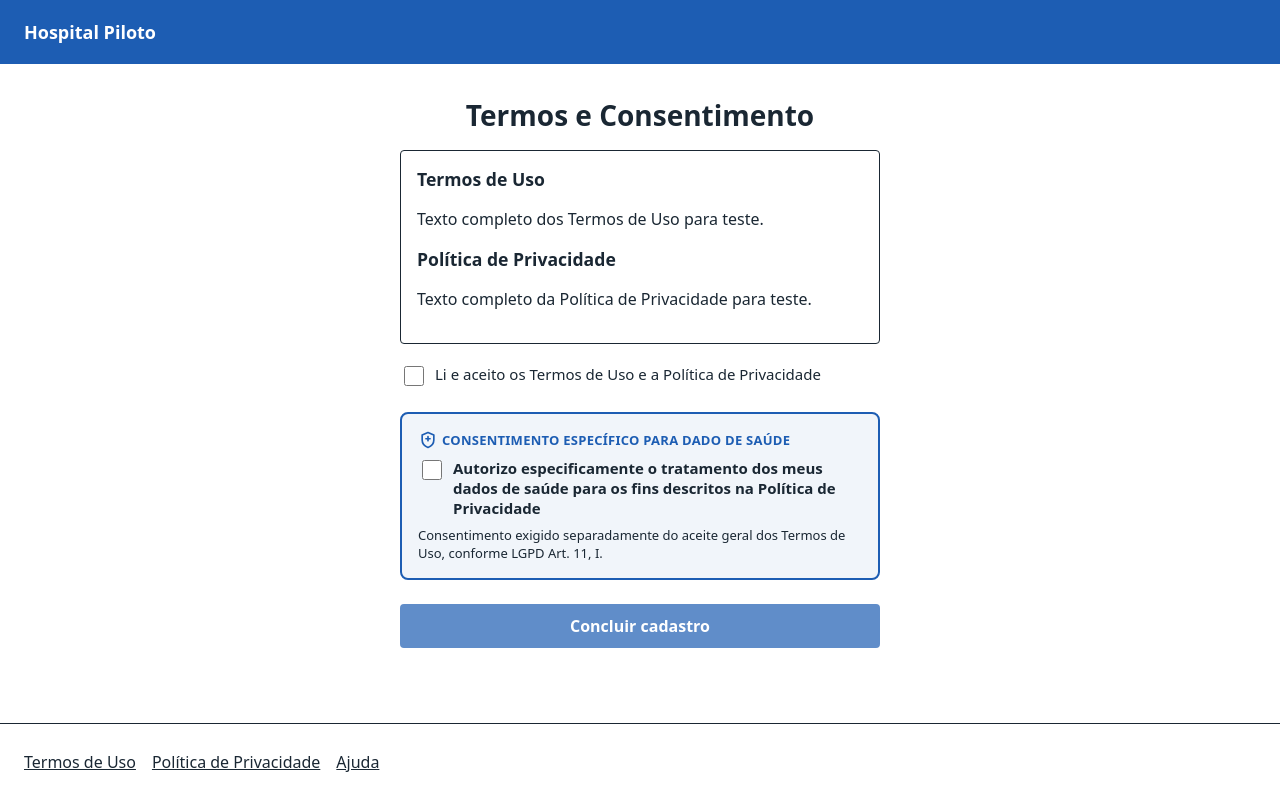
Test case: CadastroTermosConsentimentoPage (TL-05 — Termos e Consentimento LGPD, RF-12/RN-02) › CTA "Concluir cadastro" permanece desabilitado até os dois aceites (nunca apenas um)
The image size is (1280, 800).
Expected: the element named "Texto completo dos Termos de Uso e Política de Privacidade" is shown, left=400, top=150, right=880, bottom=344
Expected: the button "Concluir cadastro" is disabled, left=400, top=604, right=880, bottom=648
Click the checkbox labelled "Li e aceito os Termos de Uso e a Política de Privacidade". click: (414,376)
box: left=404, top=366, right=424, bottom=386
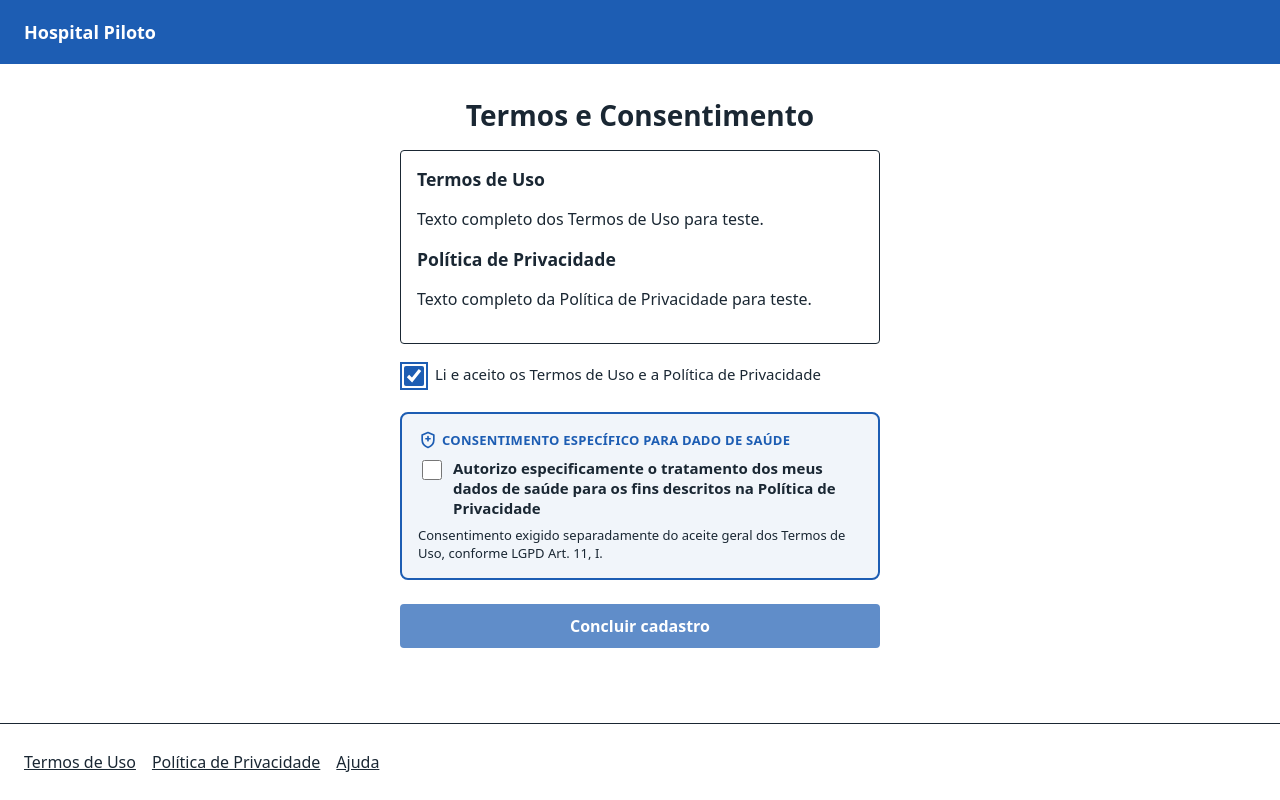
Expected: the button "Concluir cadastro" is disabled, left=400, top=604, right=880, bottom=648
Click the checkbox named "Consentimento específico para dado de saúde: Autorizo especificamente". click: (432,470)
box: left=422, top=460, right=442, bottom=480
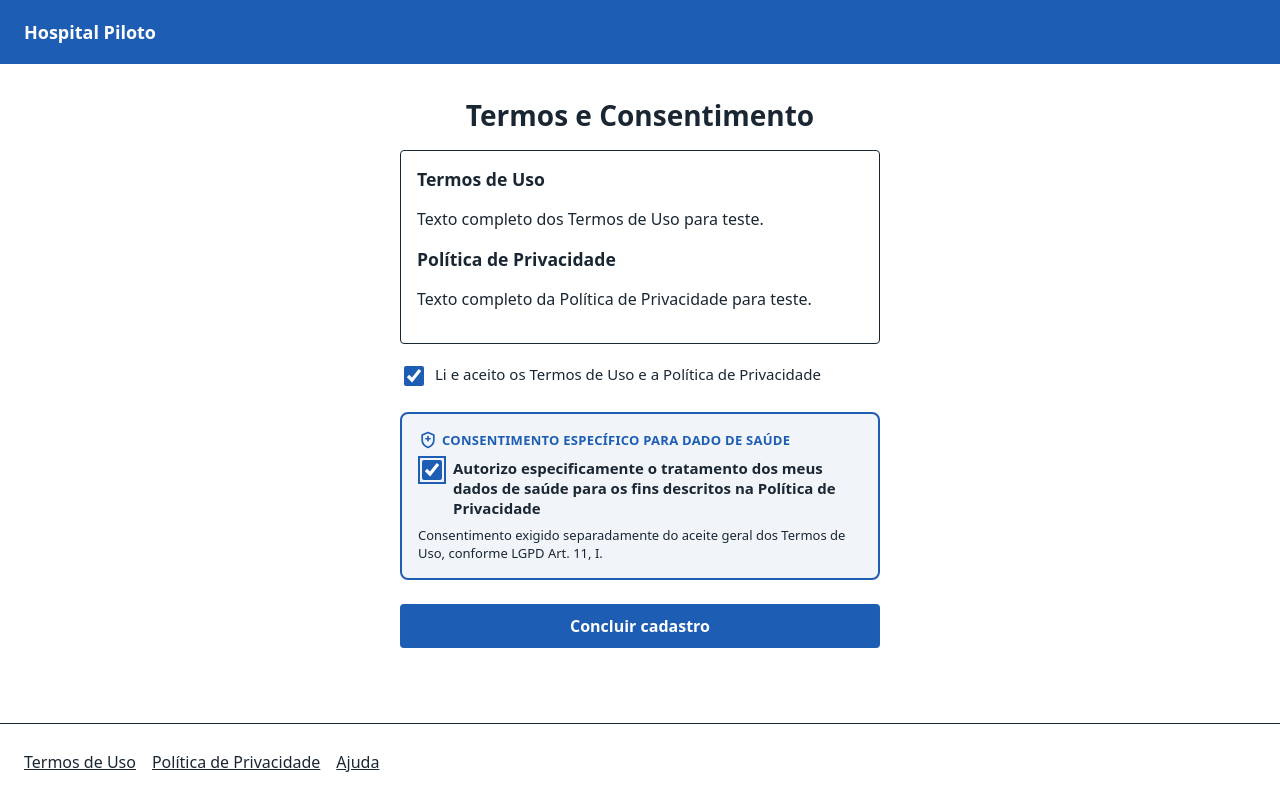
Expected: the button "Concluir cadastro" is enabled, left=400, top=604, right=880, bottom=648
Click the checkbox named "Consentimento específico para dado de saúde: Autorizo especificamente". click: (432,470)
box: left=422, top=460, right=442, bottom=480
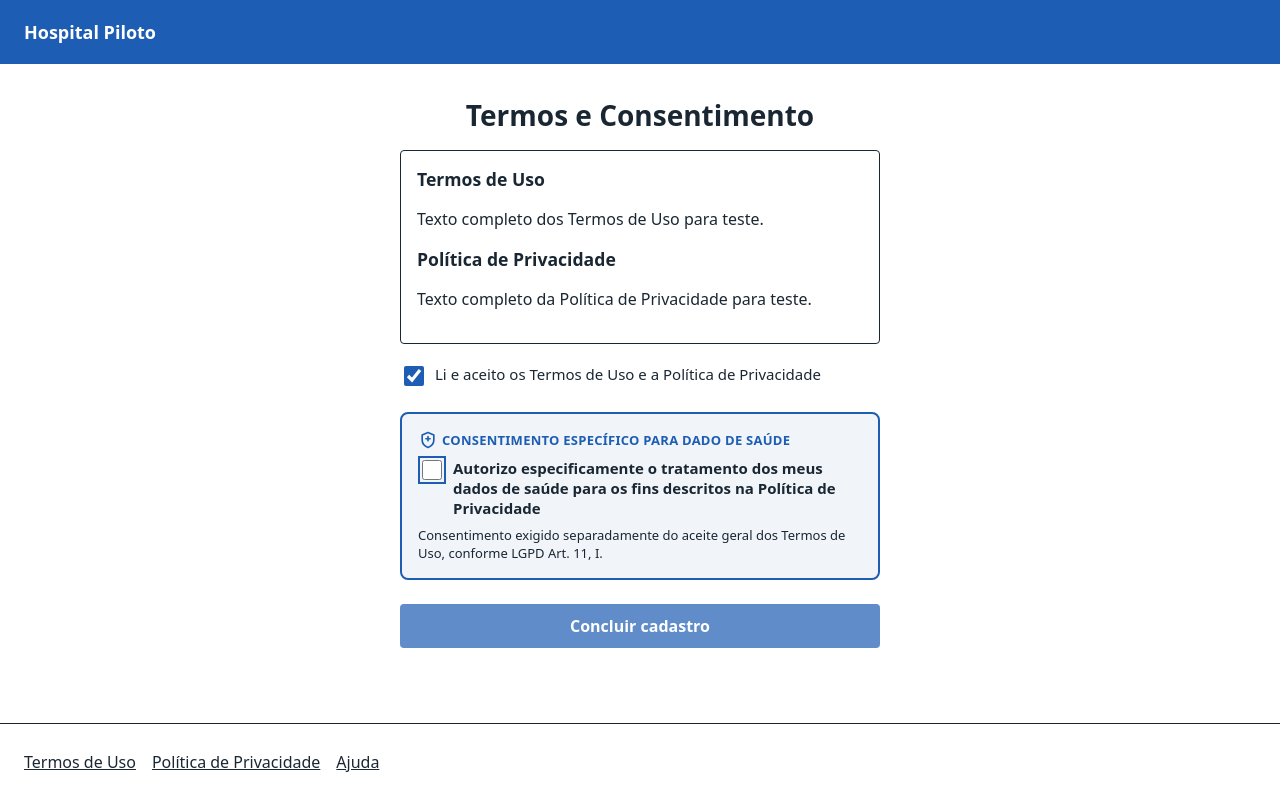
Expected: the button "Concluir cadastro" is disabled, left=400, top=604, right=880, bottom=648
